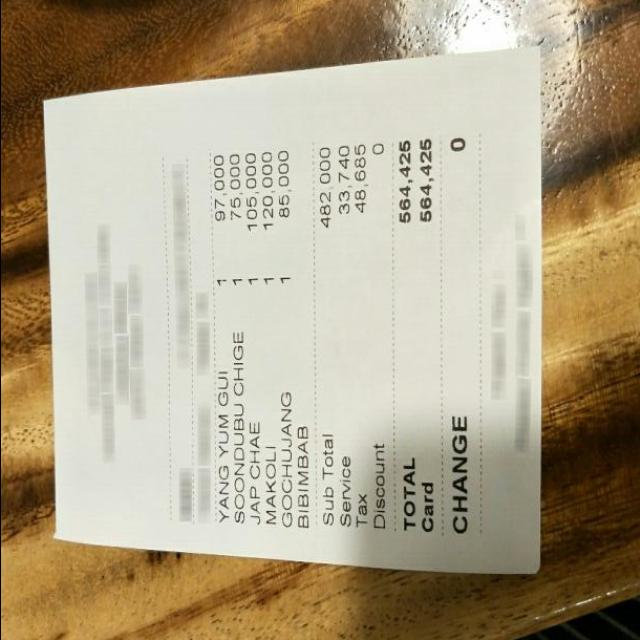kertas: (42, 37, 545, 580)
